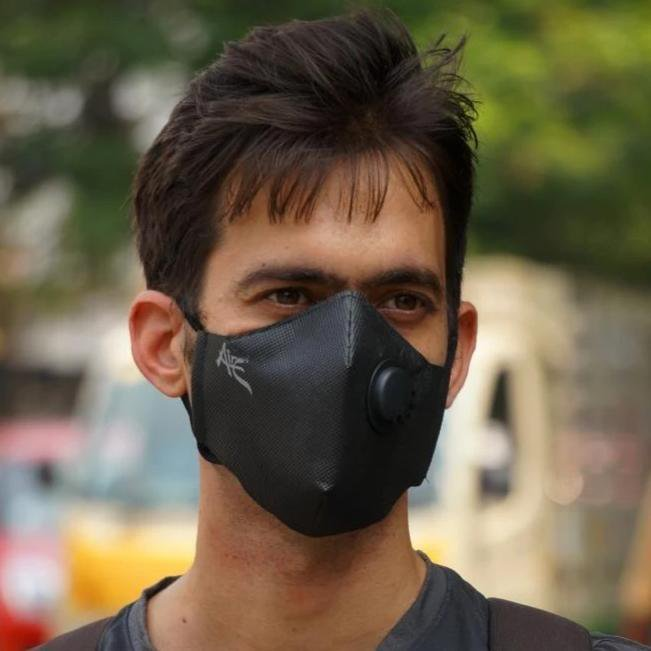mask: (89, 4, 541, 601)
